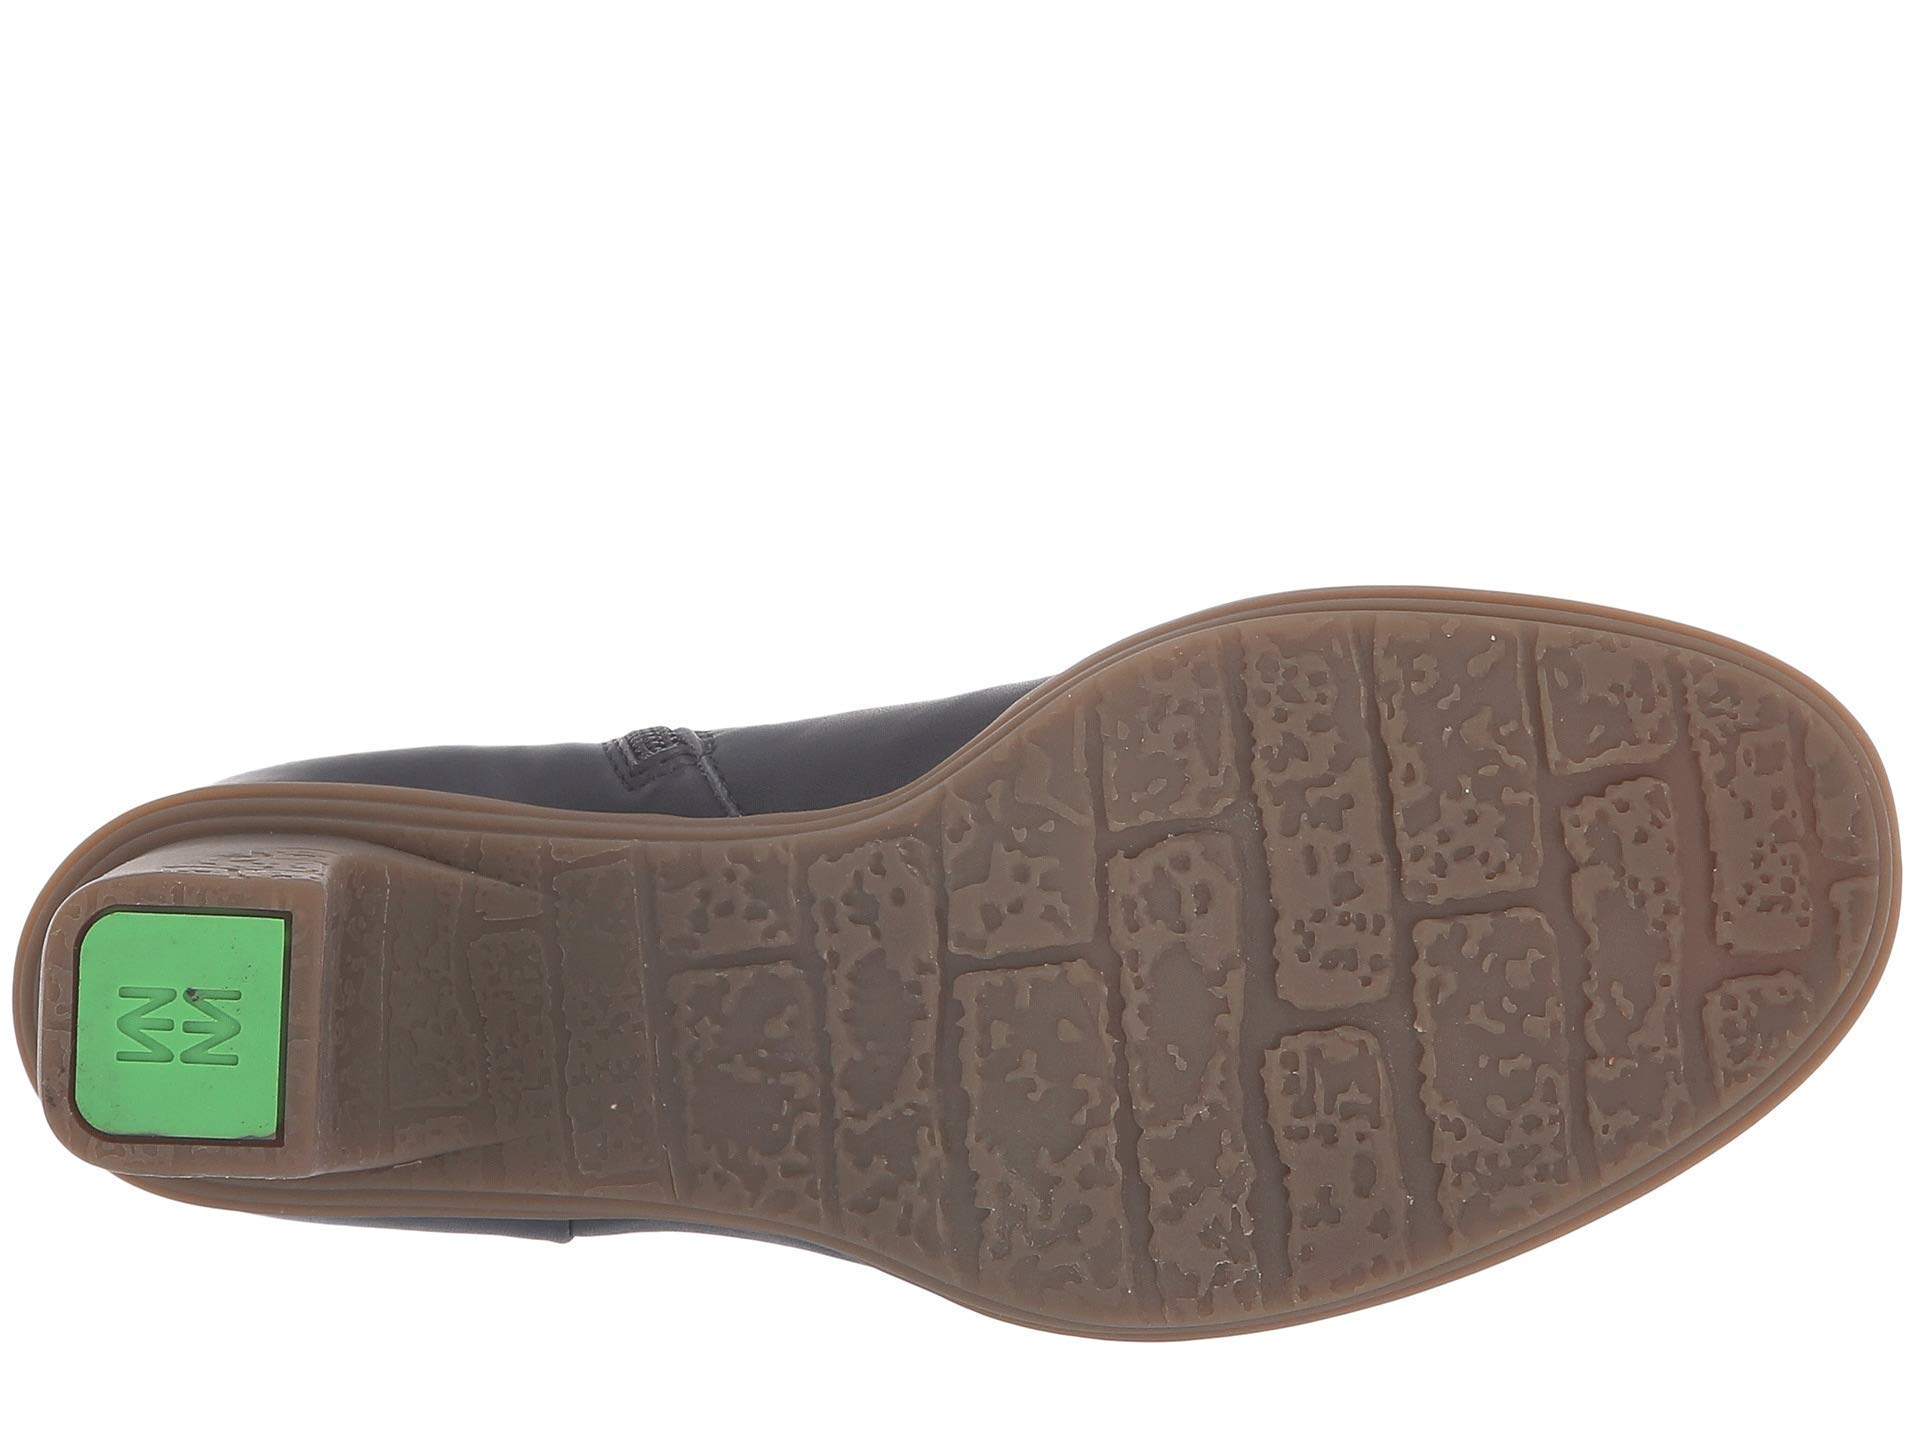quad: (1226, 613, 1702, 1131), (649, 844, 1048, 1230), (51, 892, 302, 1175)
text: (51, 892, 302, 1175)
